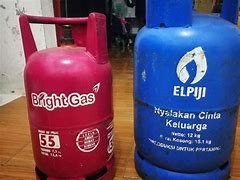blue_gas: (134, 1, 240, 180)
bright_gas: (19, 13, 116, 180)
